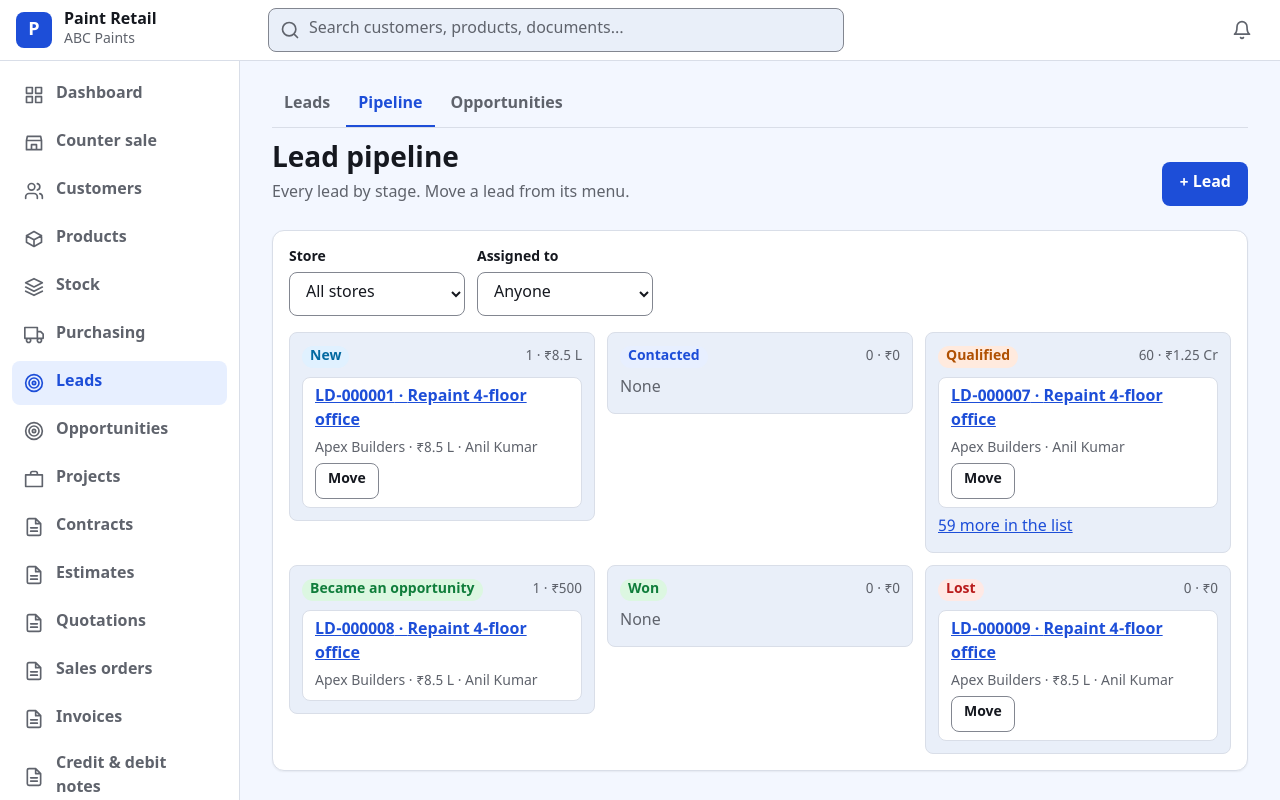
LeadBoardPage › moves a lead to another stage from its menu
This screenshot has width=1280, height=800.
Click the button with aria-label "Move LD-000001".
click(347, 481)  # box [315,463,379,499]
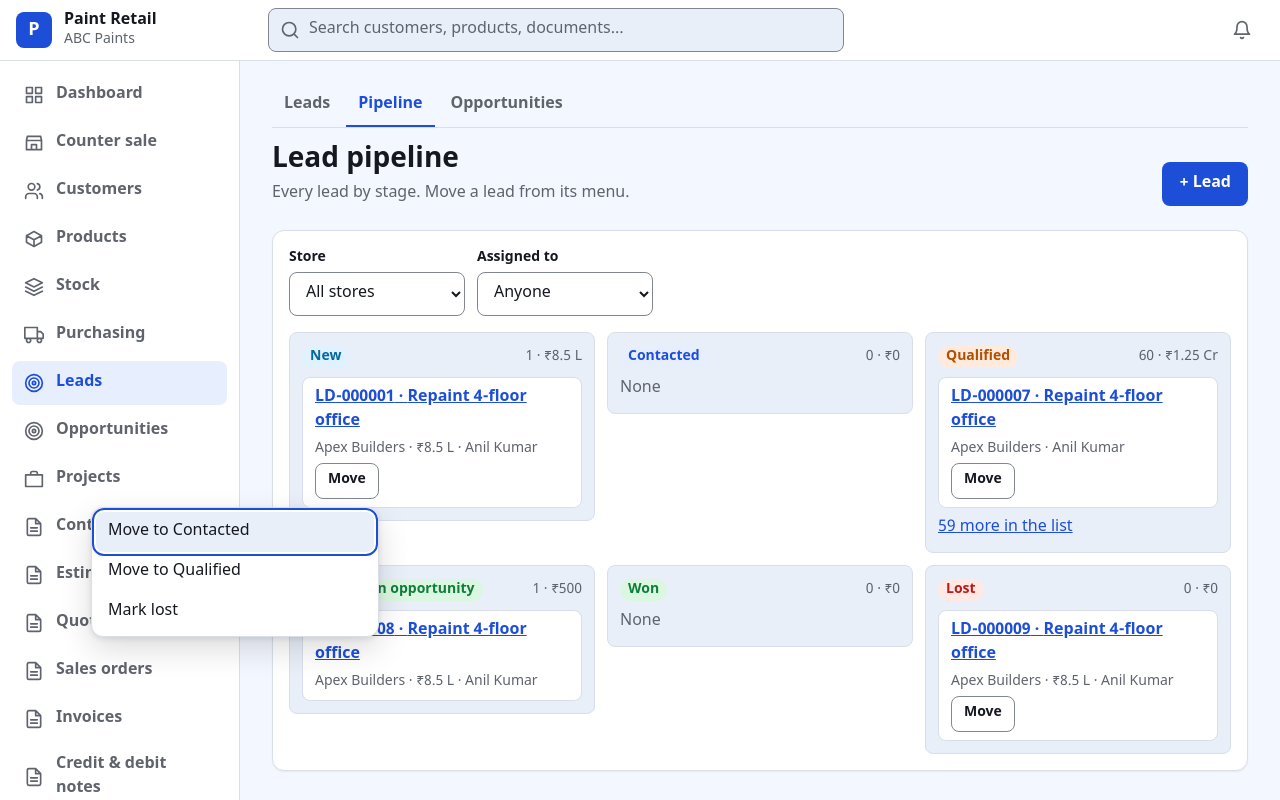
Expected: the buttons read "Move to Contacted", "Move to Qualified", "Mark lost", in this order
Click the button "Move to Contacted".
click(235, 532)  # box [96,512,374,552]
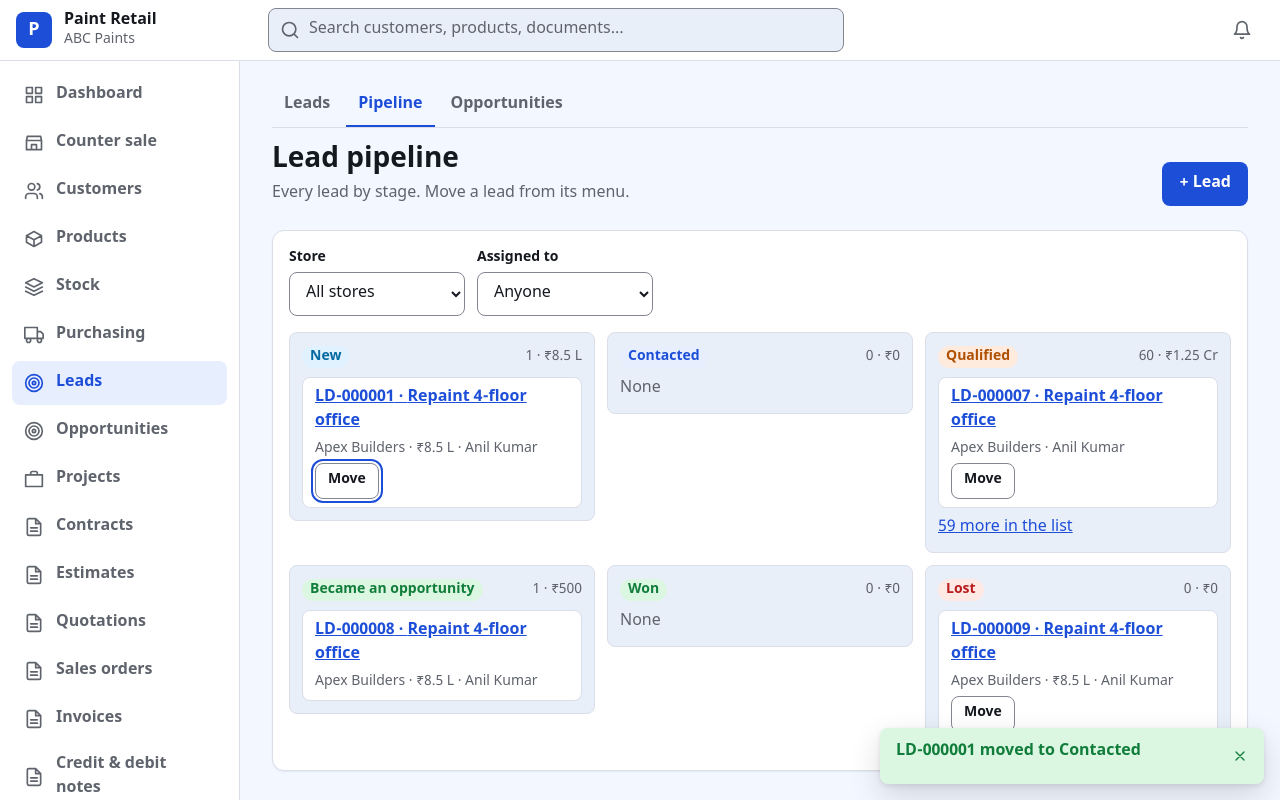
Expected: the text "LD-000001 moved to Contacted" is shown, [896,741,1141,762]
